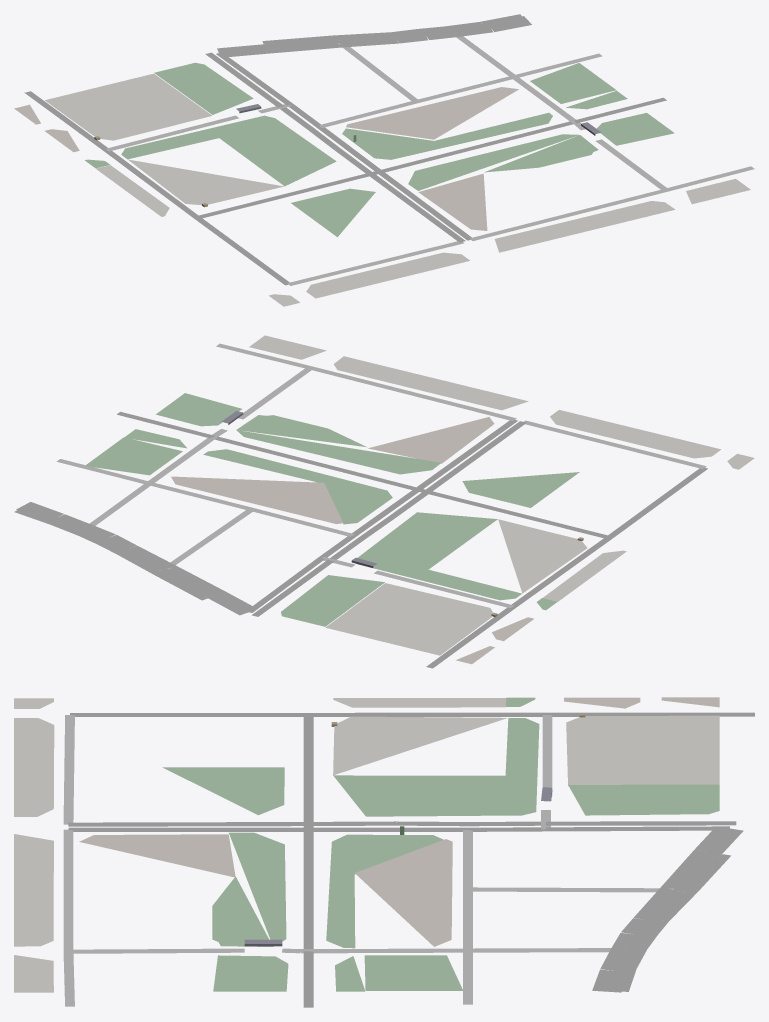
The picture shows the model from 3 angles, top to bottom: view 1: azimuth 30°, elevation 25°; view 2: azimuth 150°, elevation 25°; view 3: azimuth 270°, elevation 25°; orthographic projection. The views are drawn at different scales.
Bounding box in the file's own units: 529 × 10.68 × 525.
